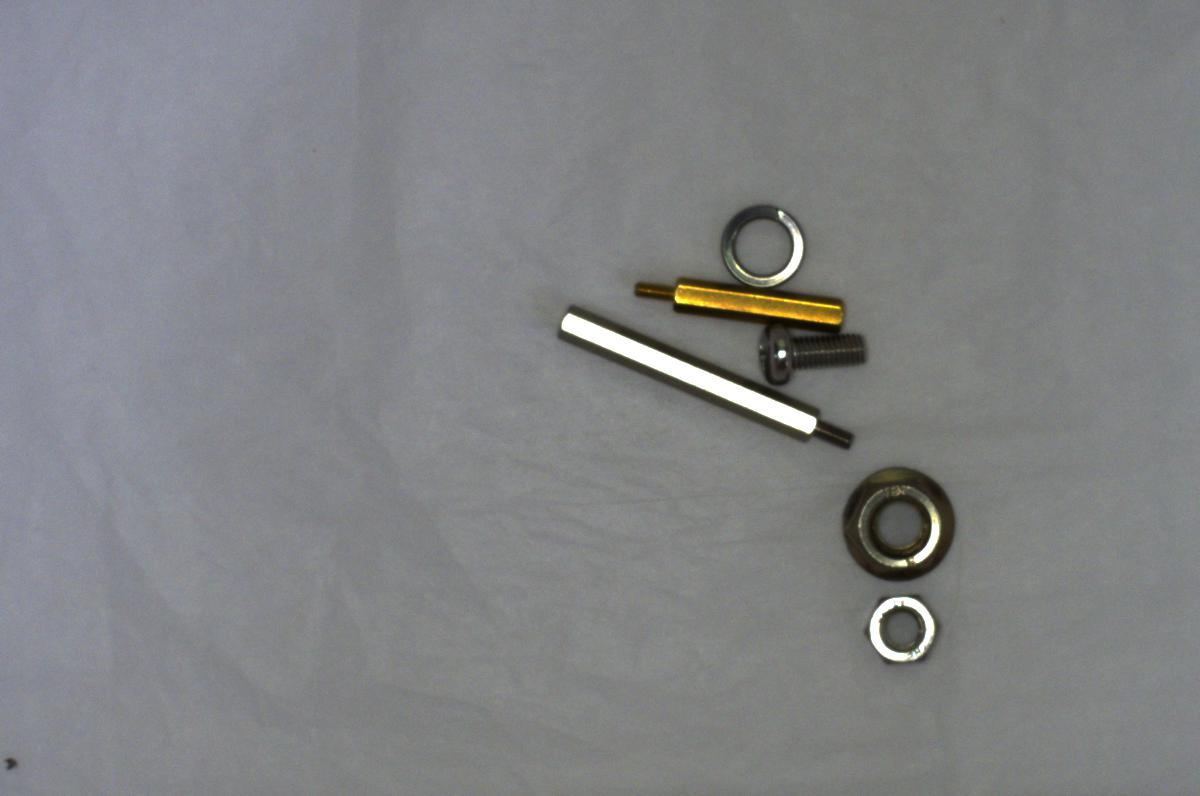Flange nut: (832, 453, 962, 583)
Hexagon nut: (854, 587, 946, 674)
Hexagon pillar: (626, 268, 852, 329)
Hexagonal steel column: (553, 303, 862, 453)
Round head screw: (760, 323, 867, 385)
Spring washer: (717, 195, 806, 286)
